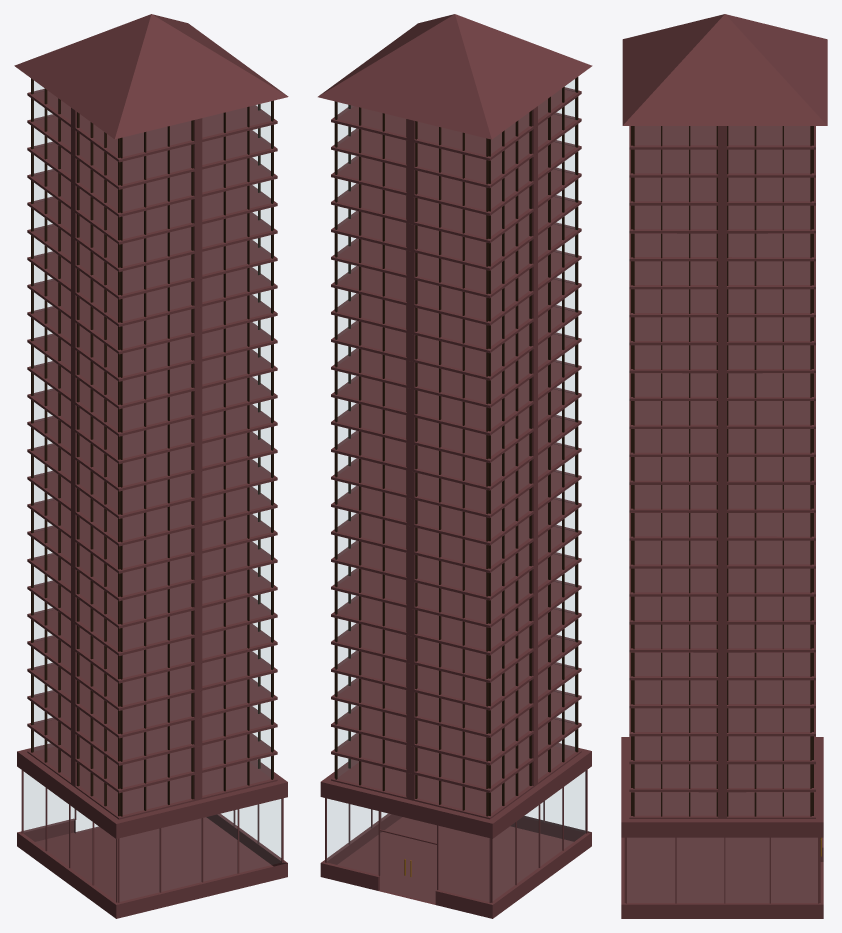
File: skyscraper2.fbx
The picture shows the model from 3 angles, left to right: view 1: azimuth 30°, elevation 25°; view 2: azimuth 150°, elevation 25°; view 3: azimuth 270°, elevation 25°; orthographic projection.
Visible parts, largest first — view 1: Cube, Cube.003, Cone, Cube.002; view 2: Cube, Cube.003, Cone, Cube.002; view 3: Cube, Cube.003, Cone.
Part boxes in pixels (x1,y1,x2,y2): Cube: (27, 78, 277, 819); Cube.003: (17, 743, 287, 918); Cone: (14, 14, 288, 139); Cube.002: (24, 772, 280, 860); Cube: (331, 77, 581, 819); Cube.003: (320, 743, 591, 918); Cone: (318, 14, 592, 139); Cube.002: (327, 771, 585, 860); Cube: (629, 126, 815, 818); Cube.003: (621, 737, 823, 918); Cone: (622, 14, 827, 125).
Bounding box in the file's own units: 220 × 1019 × 221.
